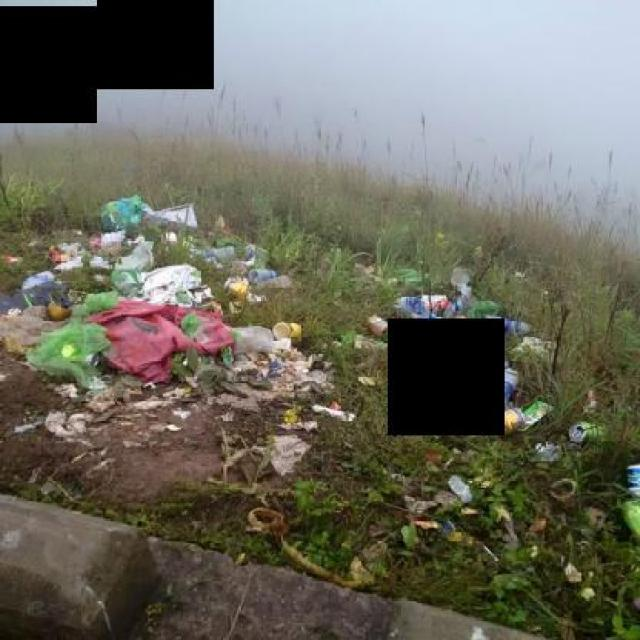plastic bag: (6, 254, 309, 403), (396, 350, 484, 424), (392, 289, 476, 363), (97, 192, 195, 235), (249, 434, 314, 477), (40, 408, 95, 442)
